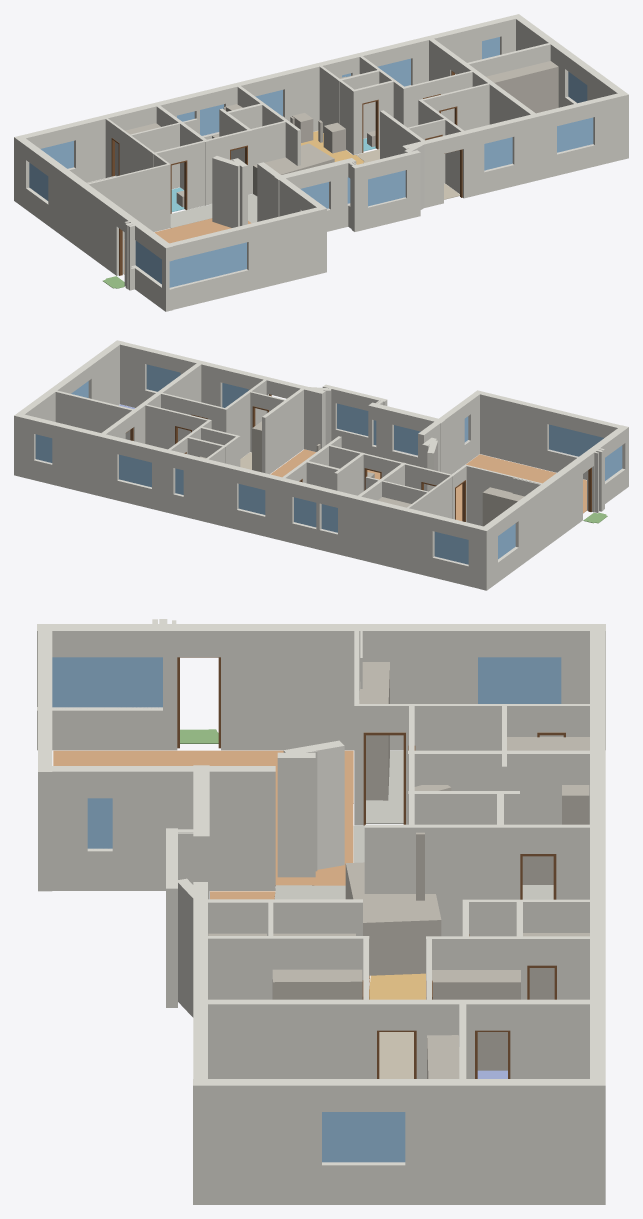
The picture shows the model from 3 angles, top to bottom: view 1: azimuth 30°, elevation 25°; view 2: azimuth 150°, elevation 25°; view 3: azimuth 270°, elevation 25°; orthographic projection. The views are drawn at different scales.
Parts seen in each view (by area): view 1: walls, furniture_7_closet, window_14, furniture_28_fireplace, window_15, window_3, floor_8_Living_Room, floor_7_Undefined, window_2, window_20, furniture_17_appliance, window_7 (+7 smaller); view 2: walls, floor_8_Living_Room, window_14, furniture_9_closet, window_0, window_12, window_15, window_8, window_3, window_4, window_7, floor_6_Living_Room (+6 smaller); view 3: walls, furniture_28_fireplace, floor_8_Living_Room, window_20, window_5, window_1, furniture_6_closet, furniture_10_closet, furniture_9_closet, floor_0_Undefined, floor_4_Entry, floor_7_Undefined (+7 smaller).
Boxes of the visible parts, x1,y1,x2,y2 form: walls: (14, 14, 628, 311); furniture_7_closet: (486, 61, 558, 113); window_14: (169, 242, 246, 287); furniture_28_fireplace: (253, 143, 334, 195); window_15: (368, 170, 405, 206); window_3: (557, 117, 593, 152); floor_8_Living_Room: (124, 218, 251, 274); floor_7_Undefined: (170, 194, 257, 228); window_2: (484, 137, 512, 170); window_20: (135, 240, 161, 284); furniture_17_appliance: (323, 122, 345, 153); window_7: (200, 104, 223, 135); walls: (14, 340, 628, 590); floor_8_Living_Room: (456, 454, 586, 520); window_14: (549, 424, 603, 456); furniture_9_closet: (482, 487, 524, 526); window_0: (434, 531, 468, 564); window_12: (119, 454, 151, 487); window_15: (337, 403, 368, 435); window_8: (238, 484, 265, 514); window_3: (146, 364, 180, 391); window_4: (394, 425, 420, 455); window_7: (294, 497, 316, 527); floor_6_Living_Room: (270, 449, 380, 479); walls: (37, 619, 605, 1204); furniture_28_fireplace: (345, 862, 441, 975); floor_8_Living_Room: (53, 750, 353, 885); window_20: (52, 657, 162, 707); window_5: (322, 1112, 405, 1162); window_1: (478, 657, 561, 703); furniture_6_closet: (432, 970, 520, 1070); furniture_10_closet: (272, 969, 362, 999); furniture_9_closet: (359, 662, 389, 800); floor_0_Undefined: (366, 750, 403, 823); floor_4_Entry: (379, 1032, 413, 1078); floor_7_Undefined: (274, 825, 364, 899).
Size of the model in its own units: 23.07 by 2.72 by 11.67.
